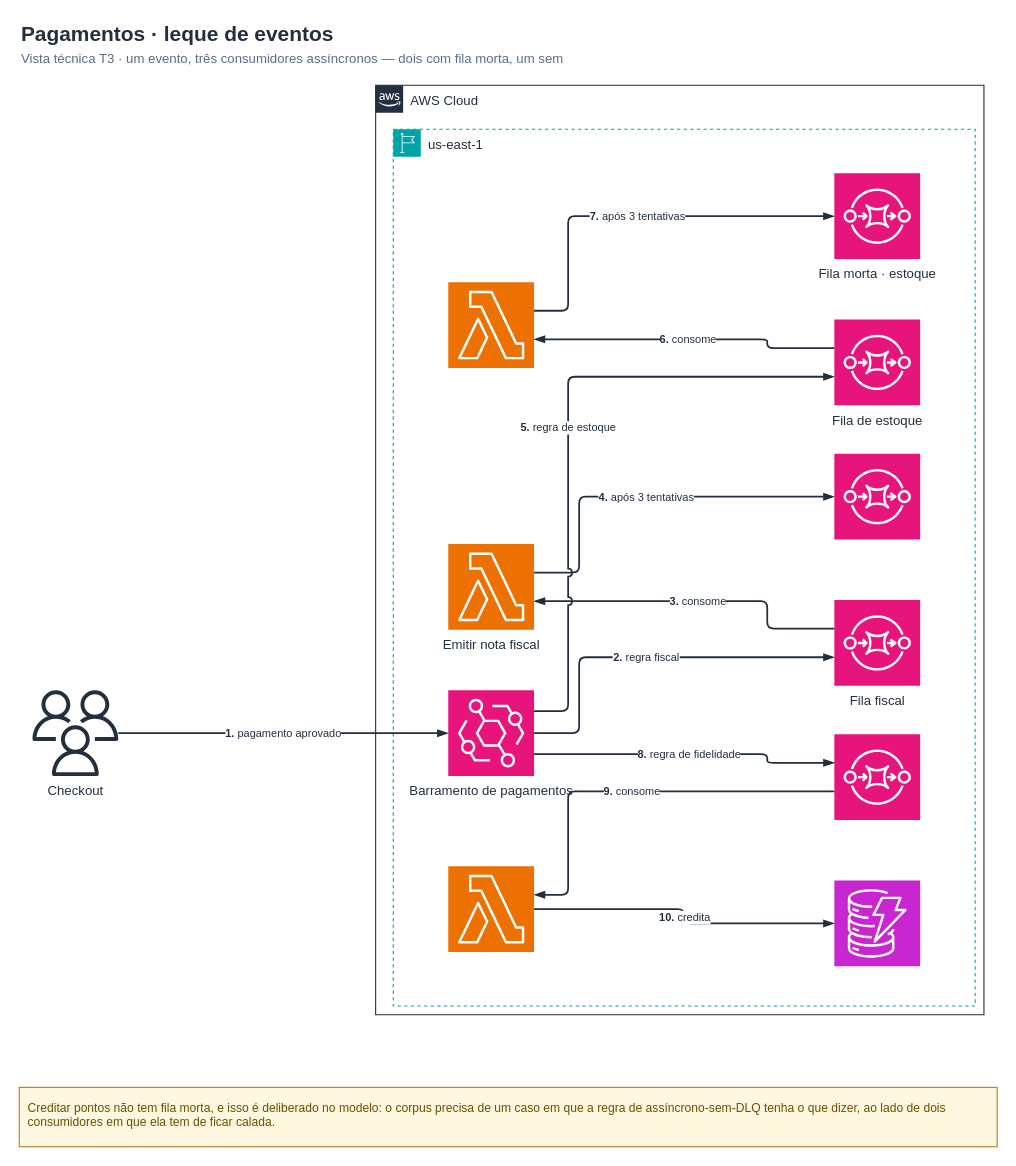
Image size: 1016x1166. Some labels were removed from this diagram. Each missing label, with the centre of its shape:
"Creditar pontos" belongs at (490,908).
"Dar baixa no estoque" belongs at (490,324).
"Fila de fidelidade" belongs at (876,776).
"Fila morta · fiscal" belongs at (876,496).
"Livro de pontos" belongs at (876,922).
